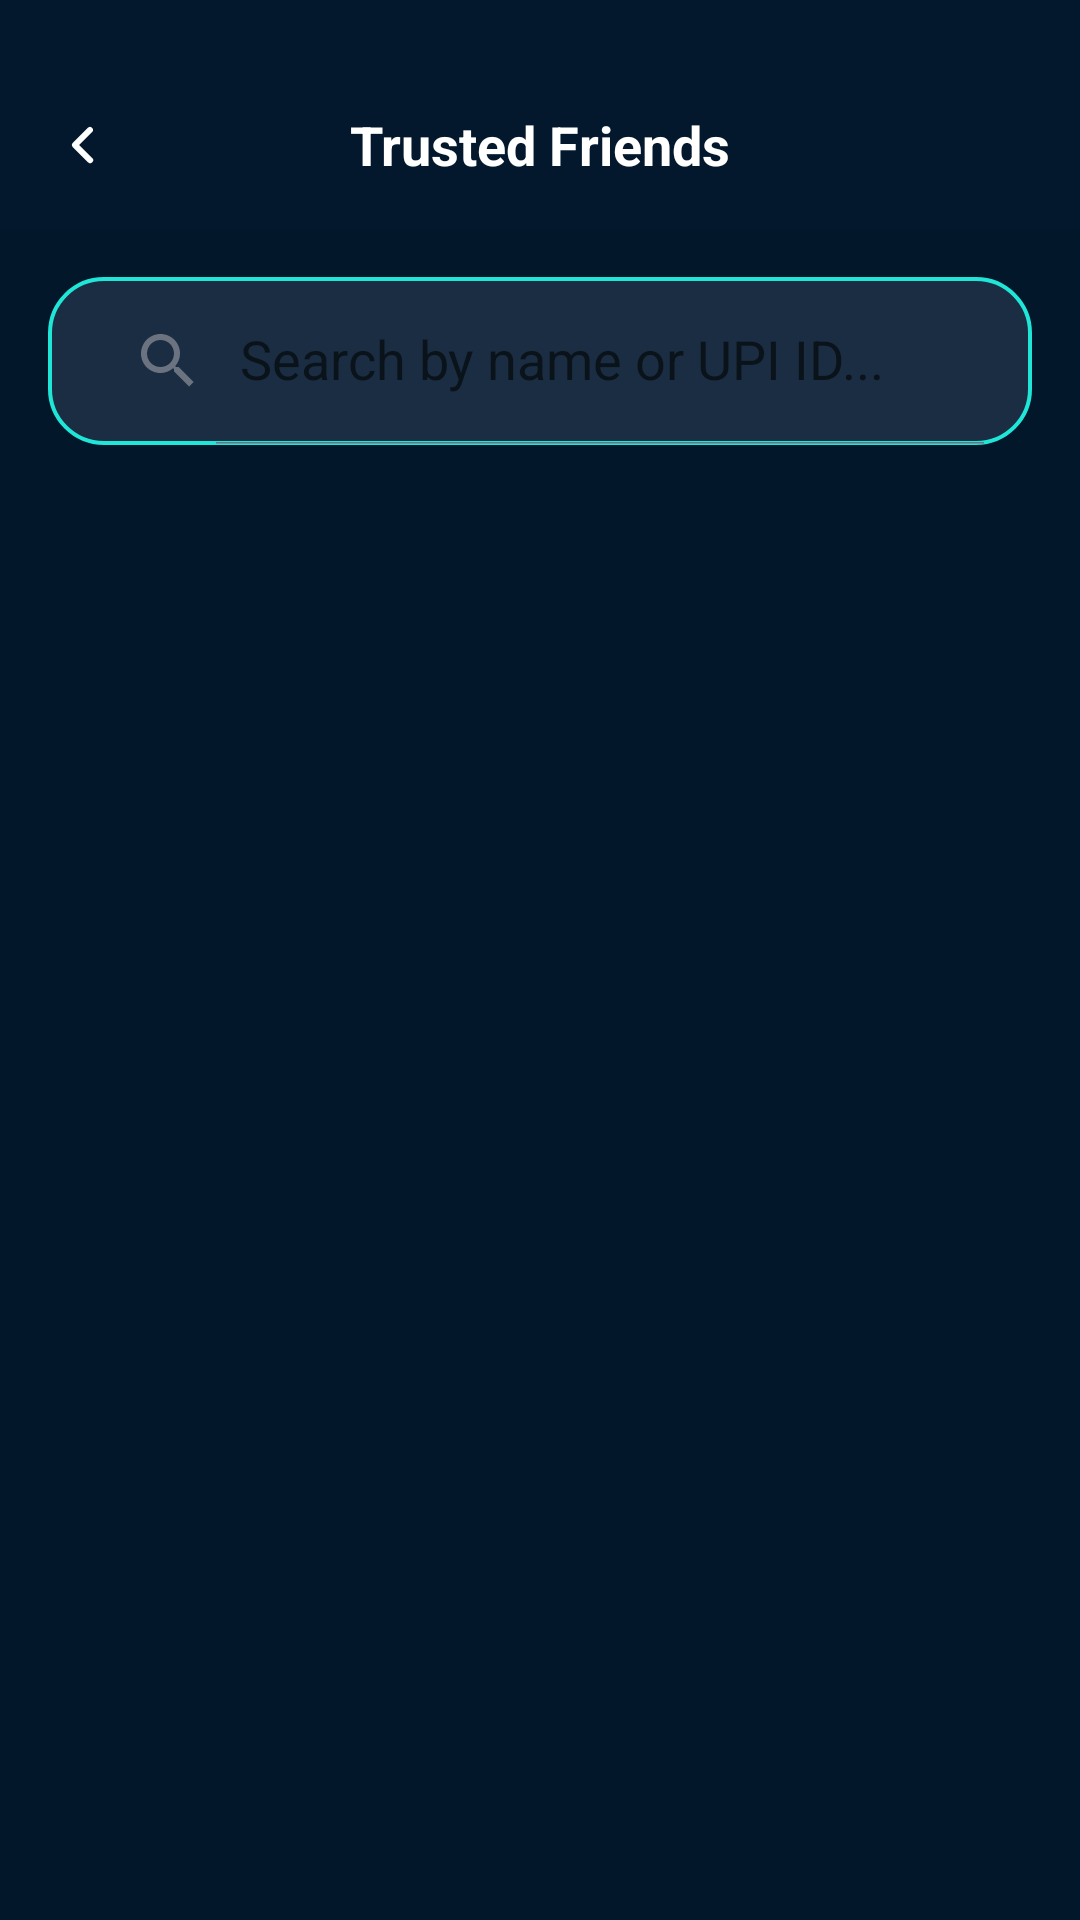

Named icons in this screenshot (1080w x 1920h) and their centers, (x=x, y=y):
arrow left: (x=83, y=145)
